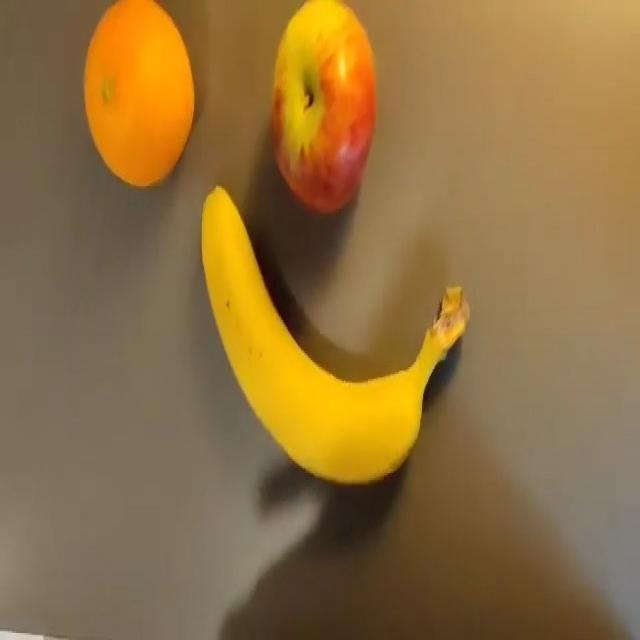Apple: (271, 0, 384, 217)
Banana: (199, 183, 468, 487)
Orange: (79, 0, 197, 188)
